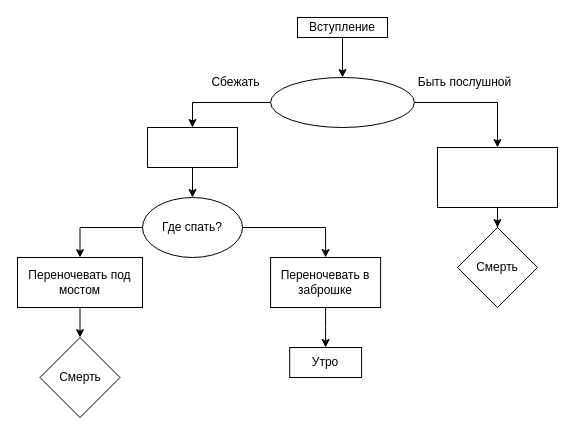
Some shapes in this 575 by 435 pixel diagram are drawn without their labels. Each missing label, with the centre of its shape:
"Изолятор, голод, холод" belongs at (497,177).
"Сам побег" belongs at (192,147).
"Тюрьма Возможность побега" belongs at (342,102).
